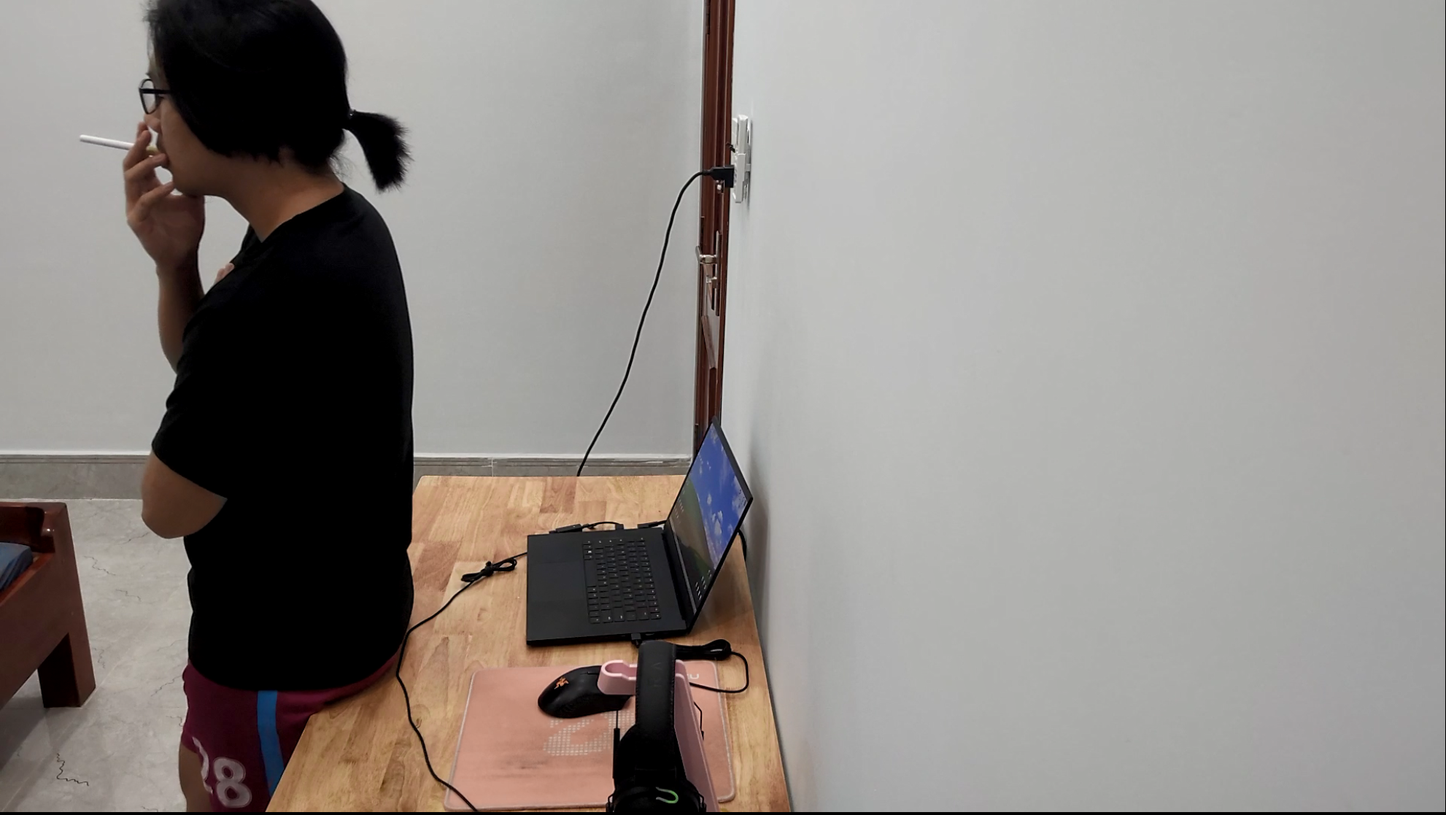cigarette: (75, 123, 156, 158)
person: (53, 0, 456, 815)
